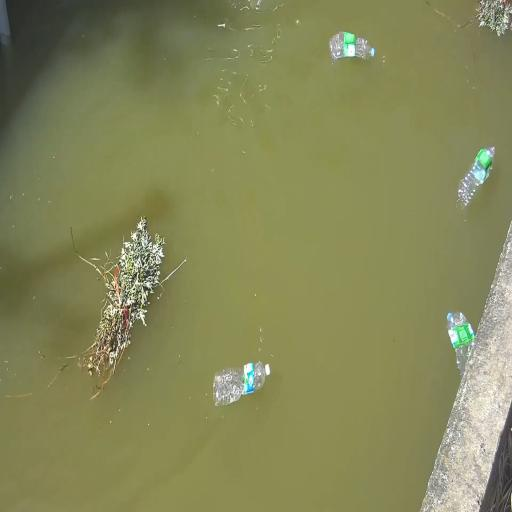plastic: (214, 362, 270, 405), (458, 147, 495, 207), (447, 312, 475, 376), (330, 32, 374, 60), (265, 364, 270, 375)
twig: (78, 216, 165, 396), (477, 0, 512, 37), (48, 364, 68, 387)
